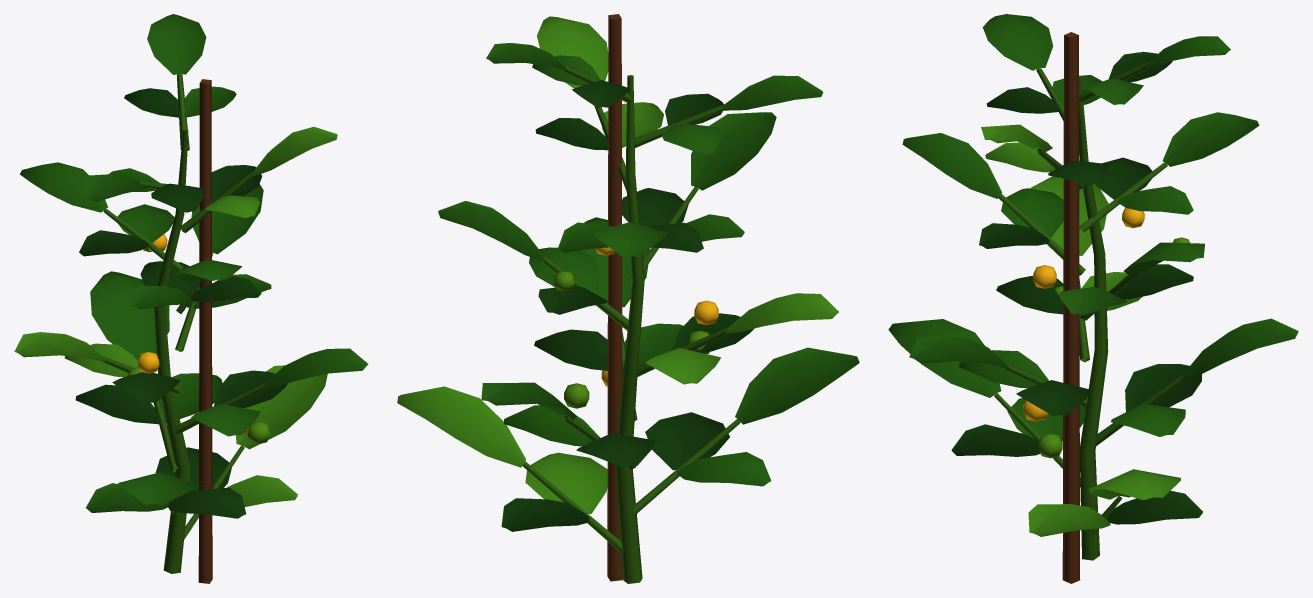
File: Tomato_3.obj
The picture shows the model from 3 angles, left to right: view 1: azimuth 30°, elevation 25°; view 2: azimuth 150°, elevation 25°; view 3: azimuth 270°, elevation 25°; orthographic projection. The views are drawn at different scales.
Parts seen in each view (by area): view 1: Tomato_3; view 2: Tomato_3; view 3: Tomato_3.
Part boxes in pixels (bbox=[...]): Tomato_3: bbox=[14, 14, 368, 583]; Tomato_3: bbox=[397, 14, 859, 583]; Tomato_3: bbox=[888, 14, 1298, 583].
Size of the model in its own units: 0.7077 by 0.9903 by 0.6601.
